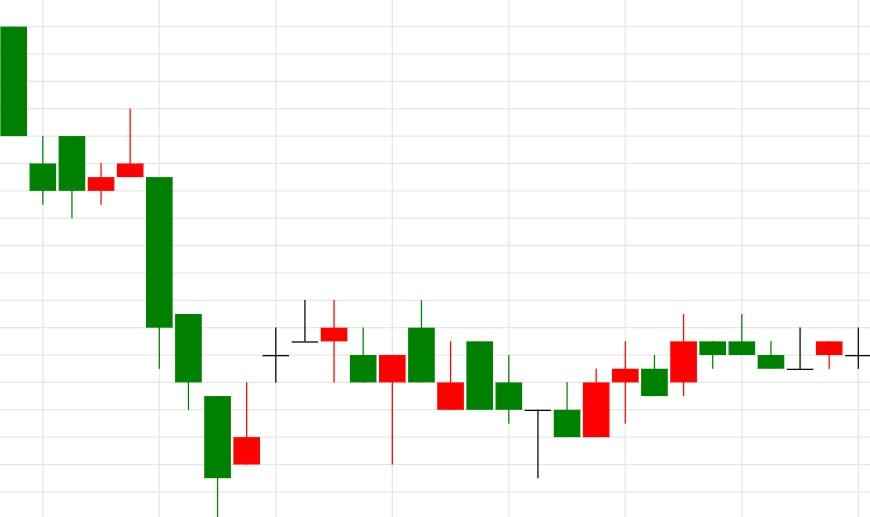bullish_engulfing_rise: (407, 299, 611, 478)
hammer_rise: (291, 299, 406, 464)
inverse_hammer_rise: (116, 109, 261, 517)
